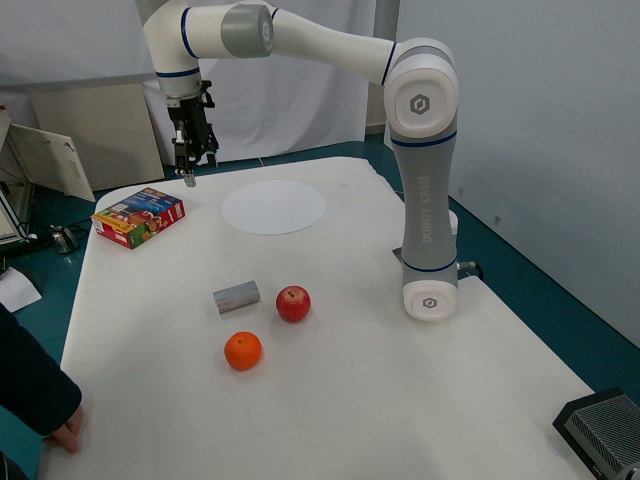apple: (267, 278, 313, 323)
metalROD: (208, 274, 262, 315)
